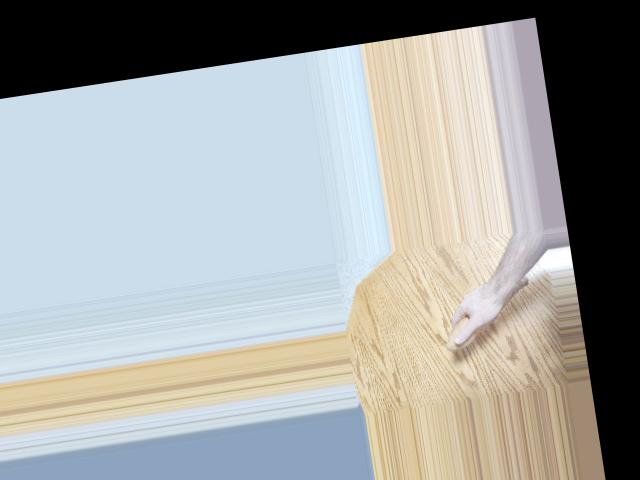sweet_potato: (436, 277, 536, 353)
